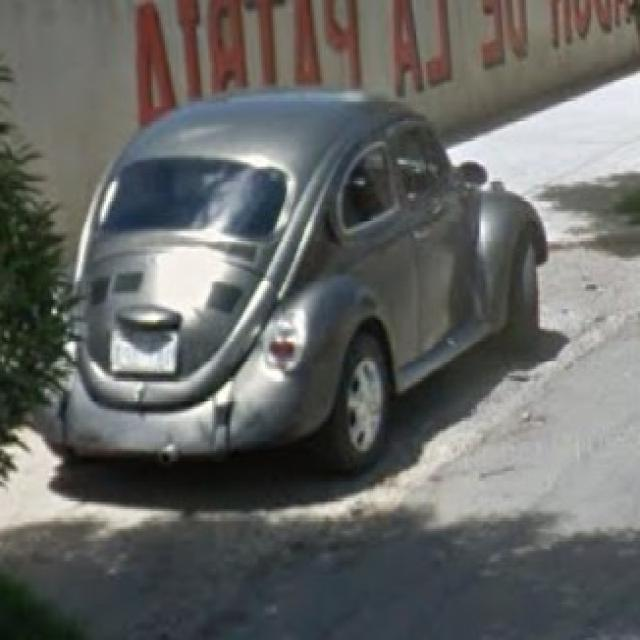car: (31, 86, 549, 475)
